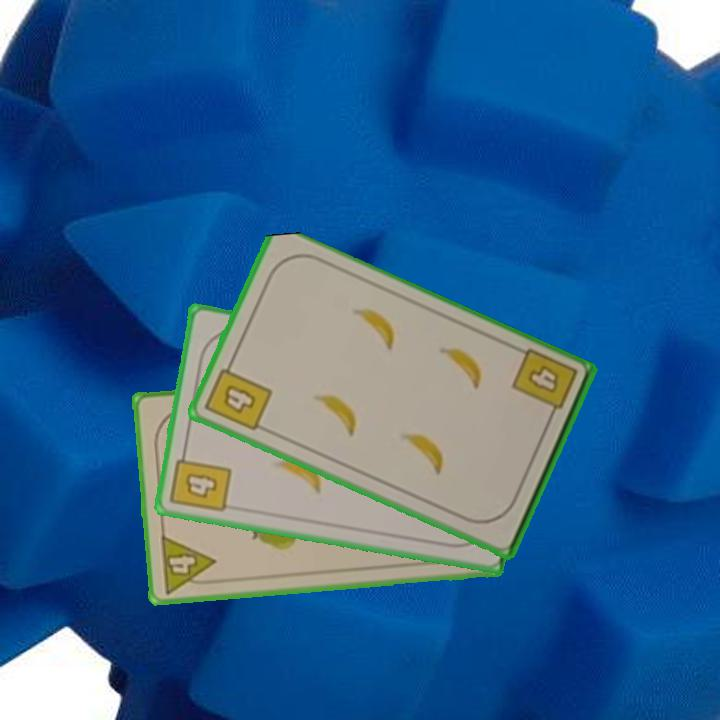4b: (508, 345, 581, 425), (201, 356, 275, 434), (167, 444, 234, 516)
4p: (157, 531, 220, 596)
